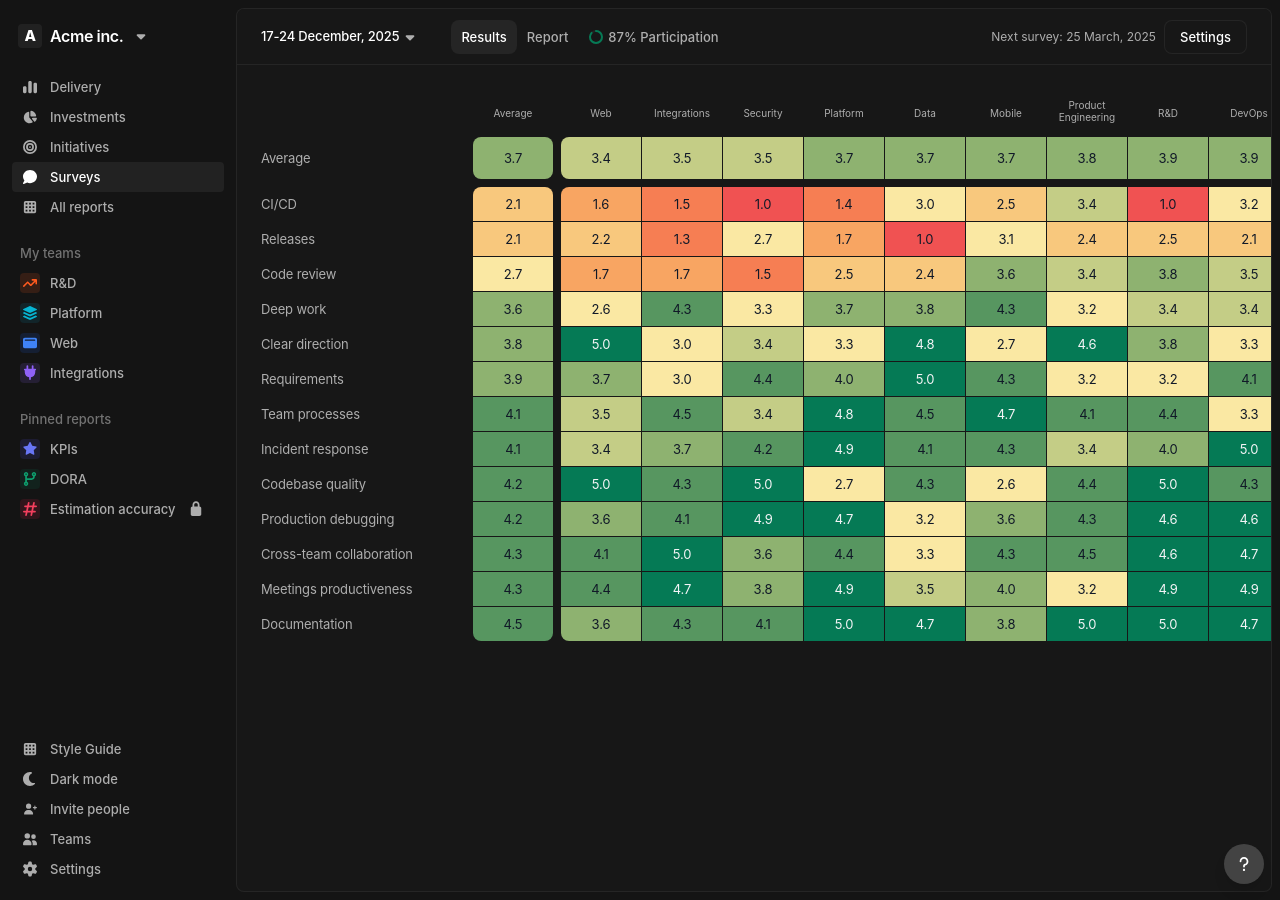
Test: surveys results page › switches between dark and light theme modes
The image size is (1280, 900).
What coordinates should you click on to do the following:
click the button "Dark mode"
I would click on:
 (118, 779)
Its box is [12,764,224,794].
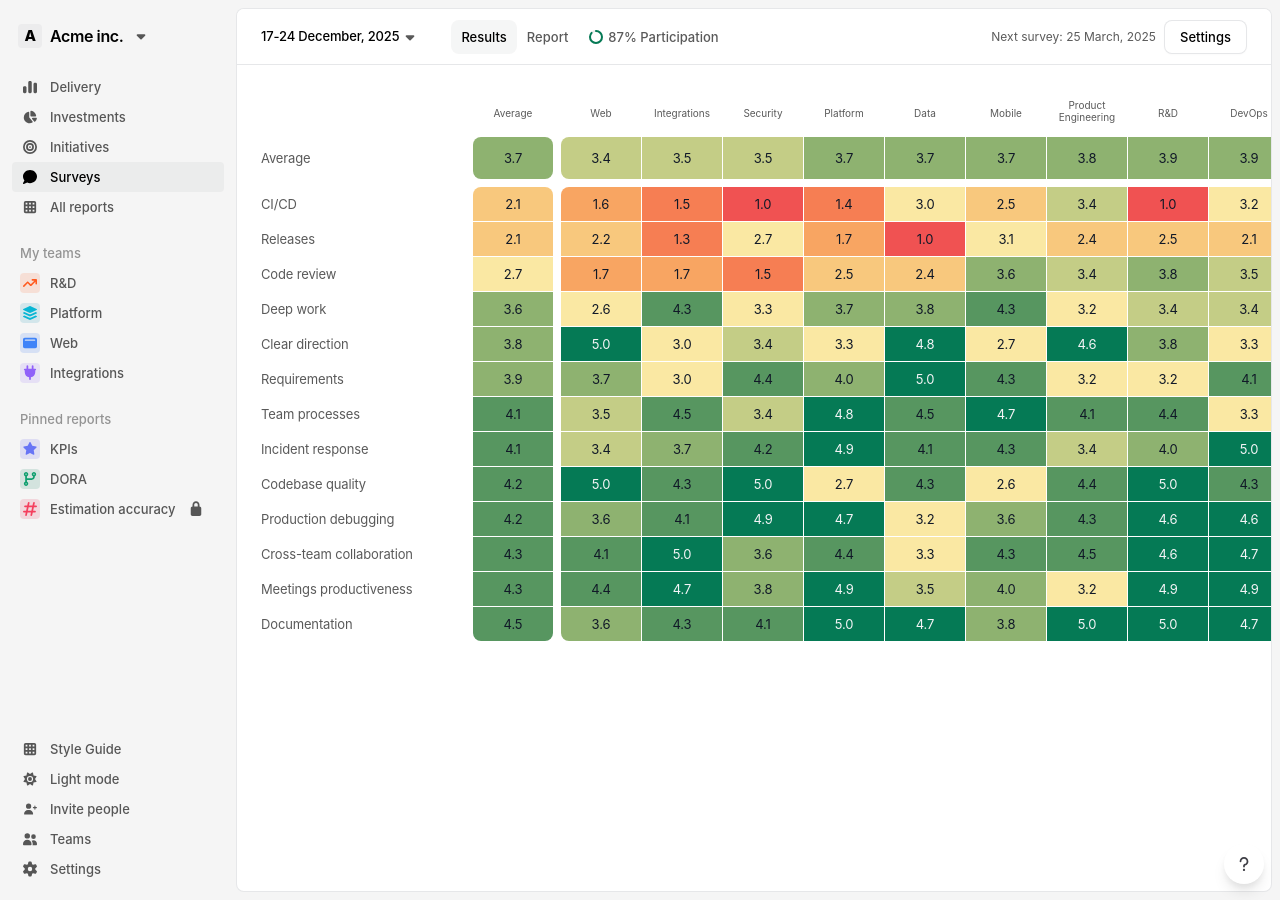
expect the button "Light mode" is shown: met, box [12,764,224,794]
